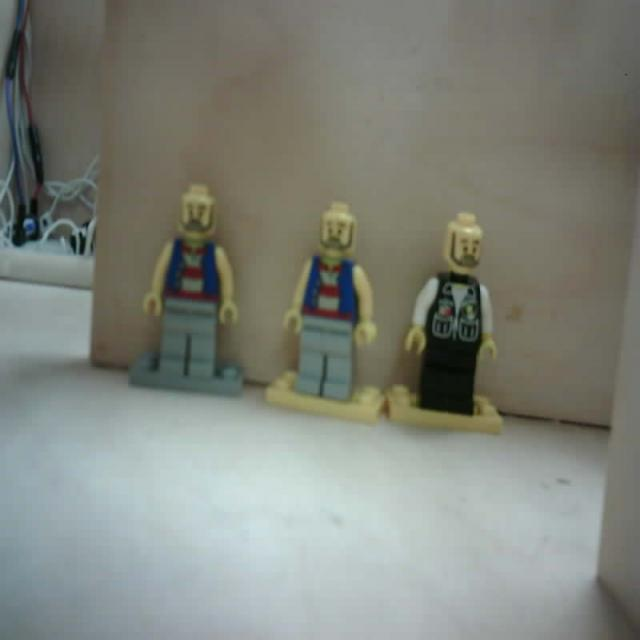Lego-People: (383, 211, 507, 434), (266, 200, 385, 425), (130, 186, 244, 400)
